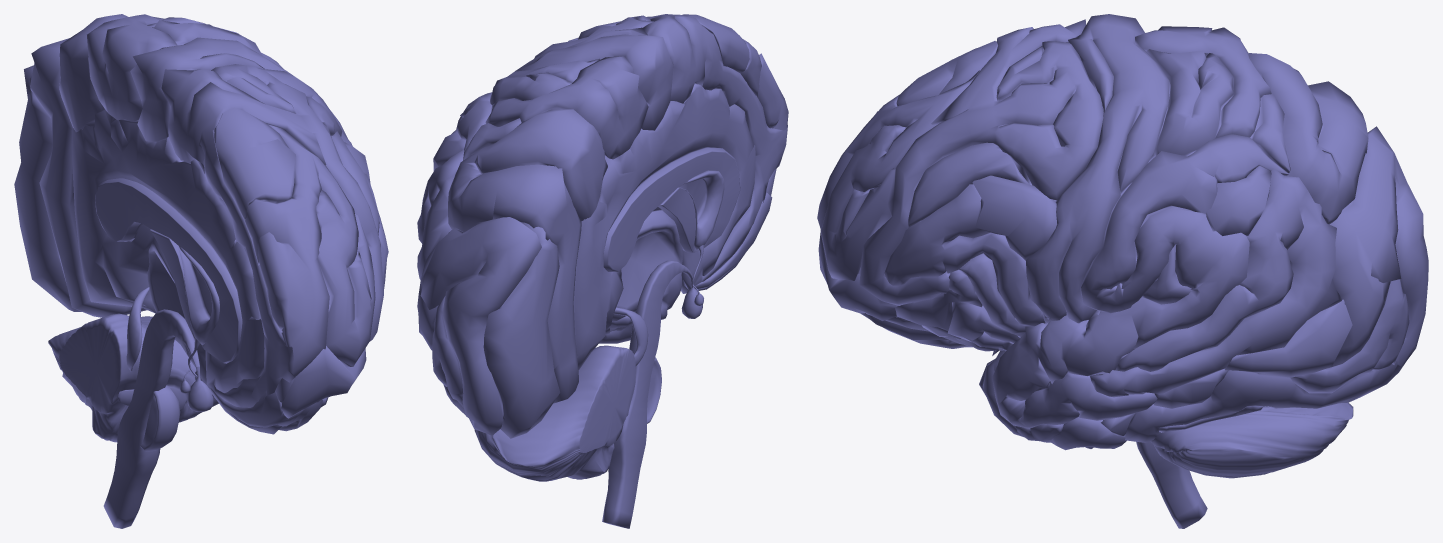
Rendered from Half Brain_Combine_Trans.gltf.
The picture shows the model from 3 angles, left to right: view 1: azimuth 30°, elevation 25°; view 2: azimuth 150°, elevation 25°; view 3: azimuth 270°, elevation 25°; orthographic projection. The views are drawn at different scales.
Parts seen in each view (by area): view 1: Carebrum, Nervous_Full_Cerebellum_3, Corpus_Callosum, Medulla_Oblongate, Thalamus_Part_A, Thalamus_Part_B, Pons, Hypothalamus, Carebellum_Part_A, Pituitary_Gland; view 2: Carebrum, Nervous_Full_Cerebellum_3, Medulla_Oblongate, Corpus_Callosum, Thalamus_Part_B, Thalamus_Part_A, Hypothalamus, Carebellum_Part_A, Pons, Pituitary_Gland; view 3: Carebrum, Nervous_Full_Cerebellum_3, Medulla_Oblongate.
Boxes of the visible parts, x1=… form: Carebrum: x1=14, y1=14, x2=388, y2=434; Nervous_Full_Cerebellum_3: x1=48, y1=313, x2=218, y2=442; Corpus_Callosum: x1=95, y1=178, x2=242, y2=363; Medulla_Oblongate: x1=103, y1=309, x2=199, y2=528; Thalamus_Part_A: x1=177, y1=245, x2=219, y2=345; Thalamus_Part_B: x1=147, y1=238, x2=209, y2=388; Pons: x1=140, y1=385, x2=180, y2=451; Hypothalamus: x1=150, y1=229, x2=200, y2=345; Carebellum_Part_A: x1=126, y1=287, x2=149, y2=371; Pituitary_Gland: x1=187, y1=366, x2=213, y2=412; Carebrum: x1=417, y1=14, x2=788, y2=438; Nervous_Full_Cerebellum_3: x1=474, y1=345, x2=635, y2=481; Medulla_Oblongate: x1=602, y1=260, x2=692, y2=528; Corpus_Callosum: x1=603, y1=147, x2=740, y2=272; Thalamus_Part_B: x1=612, y1=210, x2=682, y2=321; Thalamus_Part_A: x1=678, y1=170, x2=724, y2=249; Hypothalamus: x1=658, y1=187, x2=699, y2=252; Carebellum_Part_A: x1=613, y1=307, x2=648, y2=365; Pons: x1=647, y1=357, x2=661, y2=423; Pituitary_Gland: x1=681, y1=279, x2=702, y2=318; Carebrum: x1=817, y1=14, x2=1428, y2=450; Nervous_Full_Cerebellum_3: x1=1150, y1=402, x2=1353, y2=478; Medulla_Oblongate: x1=1136, y1=441, x2=1207, y2=528.
Size of the model in its own units: 6.69 by 15.43 by 16.76.
